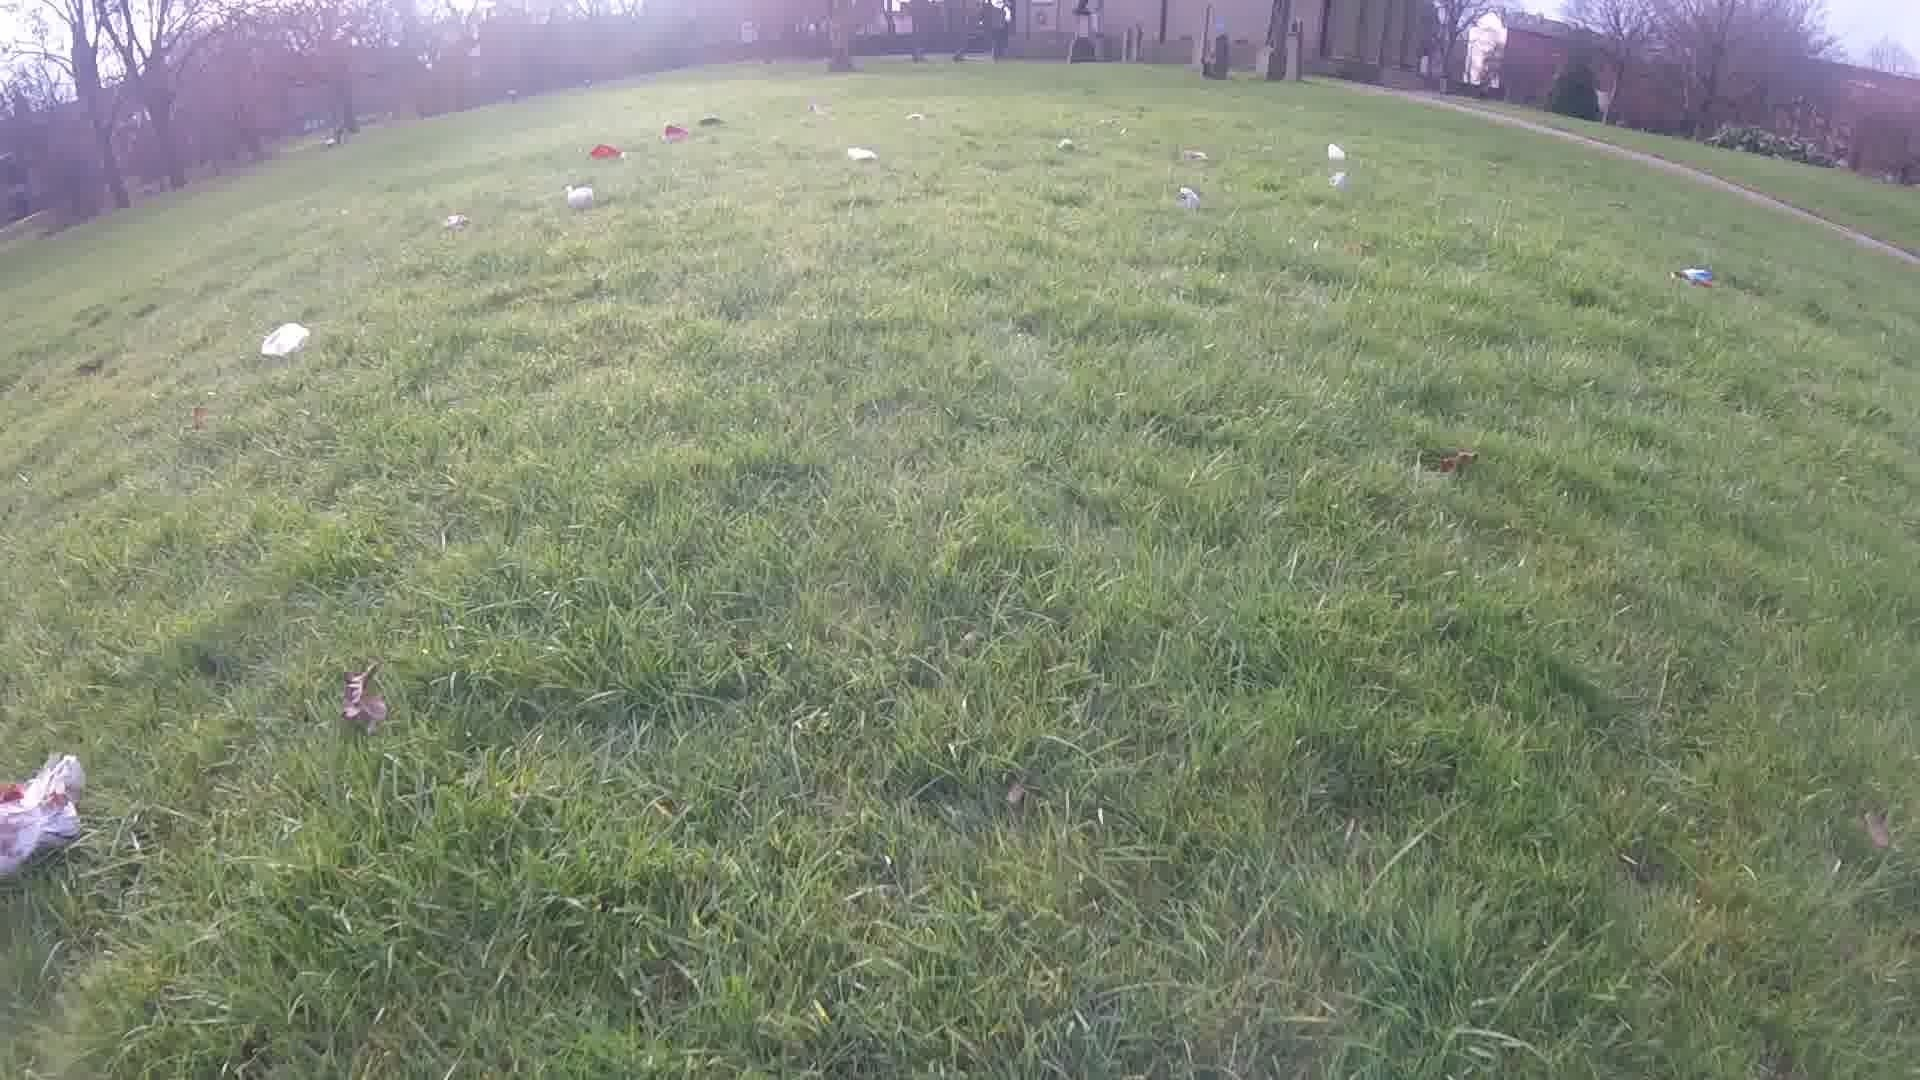litter: (0, 749, 88, 885), (262, 320, 313, 363), (1668, 262, 1717, 291), (585, 142, 626, 164), (844, 142, 878, 164), (562, 187, 597, 206), (661, 123, 691, 142), (1175, 185, 1199, 208), (436, 214, 469, 228), (1325, 140, 1348, 160), (696, 117, 727, 129), (1056, 135, 1075, 150), (1325, 171, 1345, 186), (902, 111, 924, 123), (1185, 153, 1211, 162), (804, 102, 816, 117)
